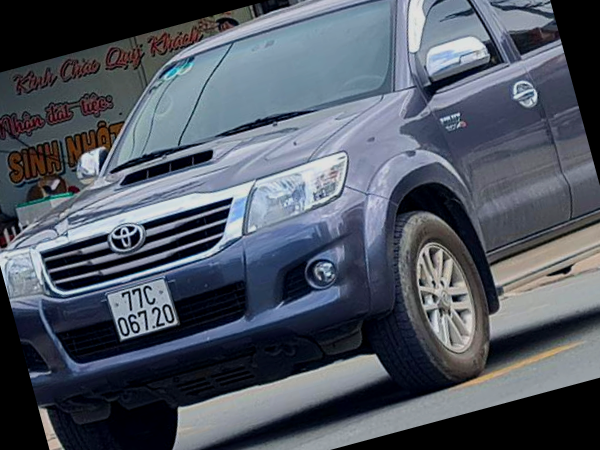lisence: (107, 278, 179, 340)
